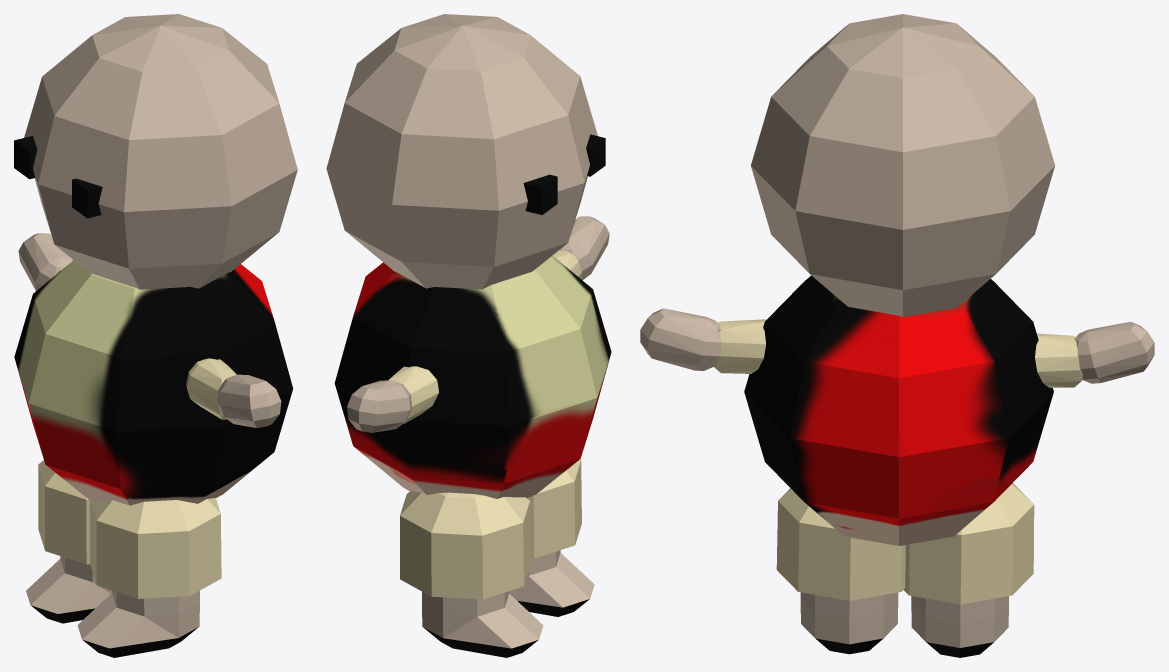
The model's file is huertano3.dae.
3 renders of one model, left to right at view 1: azimuth 30°, elevation 25°; view 2: azimuth 150°, elevation 25°; view 3: azimuth 270°, elevation 25°, orthographic. The views are drawn at different scales.
Parts seen in each view (by area): view 1: Sphere, Sphere.001, Sphere.008, Sphere.006, Sphere.007, Sphere.003, Sphere.011, Sphere.002, Sphere.010, Cube, Sphere.009, Cube.001 (+1 smaller); view 2: Sphere, Sphere.001, Sphere.007, Sphere.003, Sphere.008, Sphere.006, Sphere.002, Sphere.011, Sphere.005, Cube.001, Sphere.004, Cube (+1 smaller); view 3: Sphere, Sphere.001, Sphere.007, Sphere.008, Sphere.006, Sphere.003, Sphere.011, Sphere.002, Sphere.010, Sphere.005.
Boxes of the visible parts, x1=… form: Sphere: x1=24, y1=14, x2=297, y2=289; Sphere.001: x1=14, y1=260, x2=293, y2=505; Sphere.008: x1=90, y1=498, x2=221, y2=598; Sphere.006: x1=77, y1=590, x2=199, y2=648; Sphere.007: x1=38, y1=460, x2=89, y2=564; Sphere.003: x1=26, y1=556, x2=111, y2=613; Sphere.011: x1=217, y1=374, x2=281, y2=427; Sphere.002: x1=18, y1=233, x2=73, y2=290; Sphere.010: x1=186, y1=358, x2=236, y2=419; Cube: x1=72, y1=178, x2=102, y2=218; Sphere.009: x1=83, y1=627, x2=198, y2=657; Cube.001: x1=14, y1=136, x2=37, y2=179; Sphere: x1=326, y1=14, x2=597, y2=289; Sphere.001: x1=334, y1=255, x2=611, y2=498; Sphere.007: x1=400, y1=491, x2=530, y2=599; Sphere.003: x1=422, y1=591, x2=543, y2=648; Sphere.008: x1=527, y1=459, x2=581, y2=558; Sphere.006: x1=509, y1=550, x2=594, y2=607; Sphere.002: x1=347, y1=380, x2=412, y2=432; Sphere.011: x1=560, y1=216, x2=609, y2=280; Sphere.005: x1=388, y1=366, x2=438, y2=423; Cube.001: x1=523, y1=174, x2=557, y2=214; Sphere.004: x1=423, y1=627, x2=538, y2=657; Cube: x1=586, y1=134, x2=605, y2=176; Sphere: x1=751, y1=14, x2=1055, y2=317; Sphere.001: x1=744, y1=275, x2=1053, y2=545; Sphere.007: x1=904, y1=483, x2=1034, y2=604; Sphere.008: x1=776, y1=488, x2=905, y2=600; Sphere.006: x1=800, y1=592, x2=898, y2=644; Sphere.003: x1=911, y1=596, x2=1008, y2=647; Sphere.011: x1=640, y1=308, x2=721, y2=370; Sphere.002: x1=1075, y1=321, x2=1154, y2=383; Sphere.010: x1=714, y1=319, x2=766, y2=373; Sphere.005: x1=1035, y1=333, x2=1082, y2=387.
Size of the model in its own units: 2.61 by 4.22 by 5.75.
Materials: 4 (1 with a texture image).
